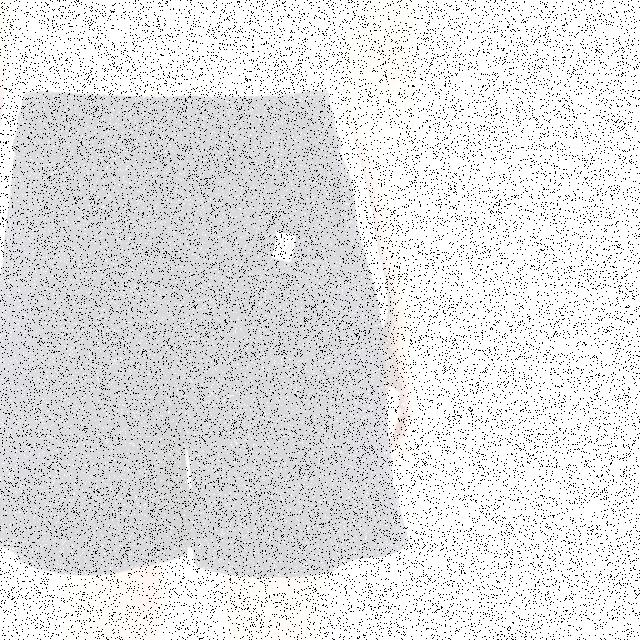Blouse_deep: (0, 98, 408, 565)
